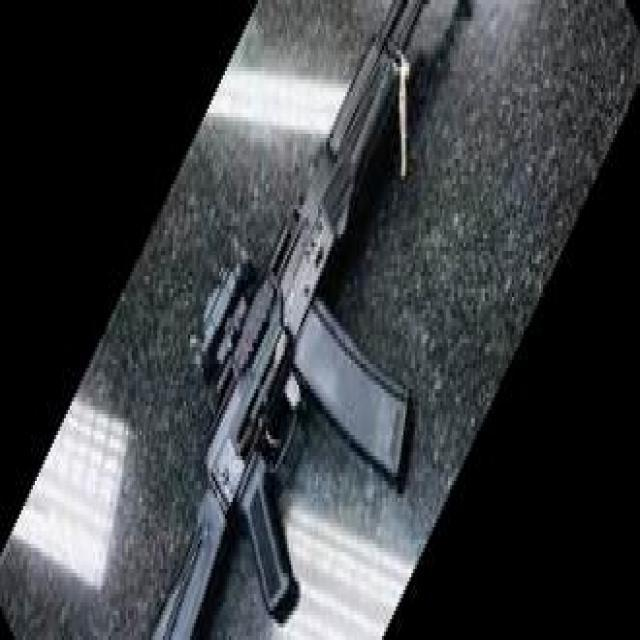weapon: (147, 0, 426, 640)
